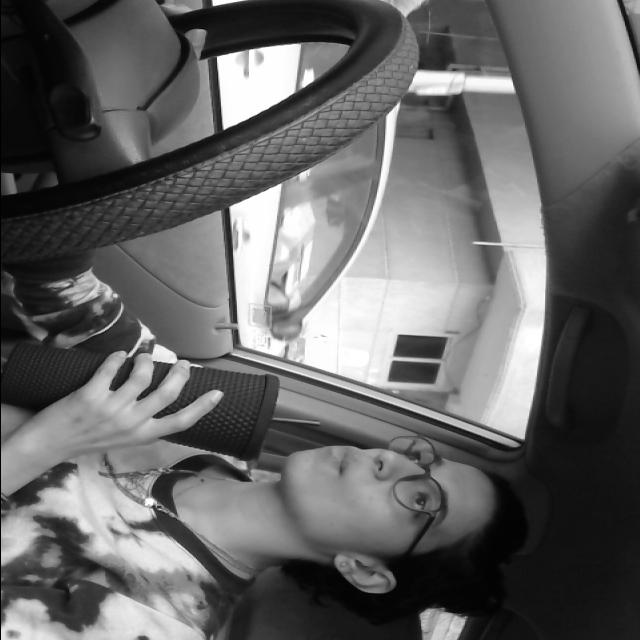drinking: (0, 299, 320, 469)
